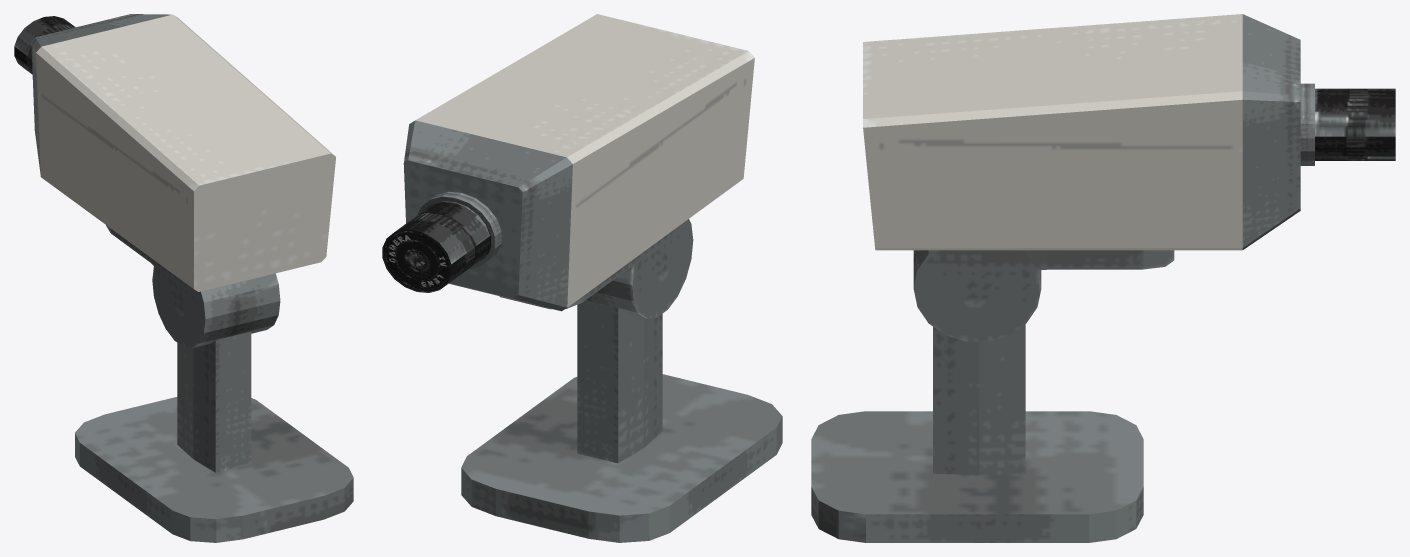
The model's file is Cam (3).fbx.
The picture shows the model from 3 angles, left to right: view 1: azimuth 30°, elevation 25°; view 2: azimuth 150°, elevation 25°; view 3: azimuth 270°, elevation 25°; orthographic projection. The views are drawn at different scales.
Parts seen in each view (by area): view 1: Cam, Handle; view 2: Cam, Handle; view 3: Cam, Handle.
Part boxes in pixels (<box>): Cam: <box>14,14,335,347</box>; Handle: <box>75,331,353,542</box>; Cam: <box>382,14,754,318</box>; Handle: <box>461,300,782,542</box>; Cam: <box>863,14,1395,341</box>; Handle: <box>811,324,1143,542</box>.
Size of the model in its own units: 0.2152 by 0.4282 by 0.5146.
